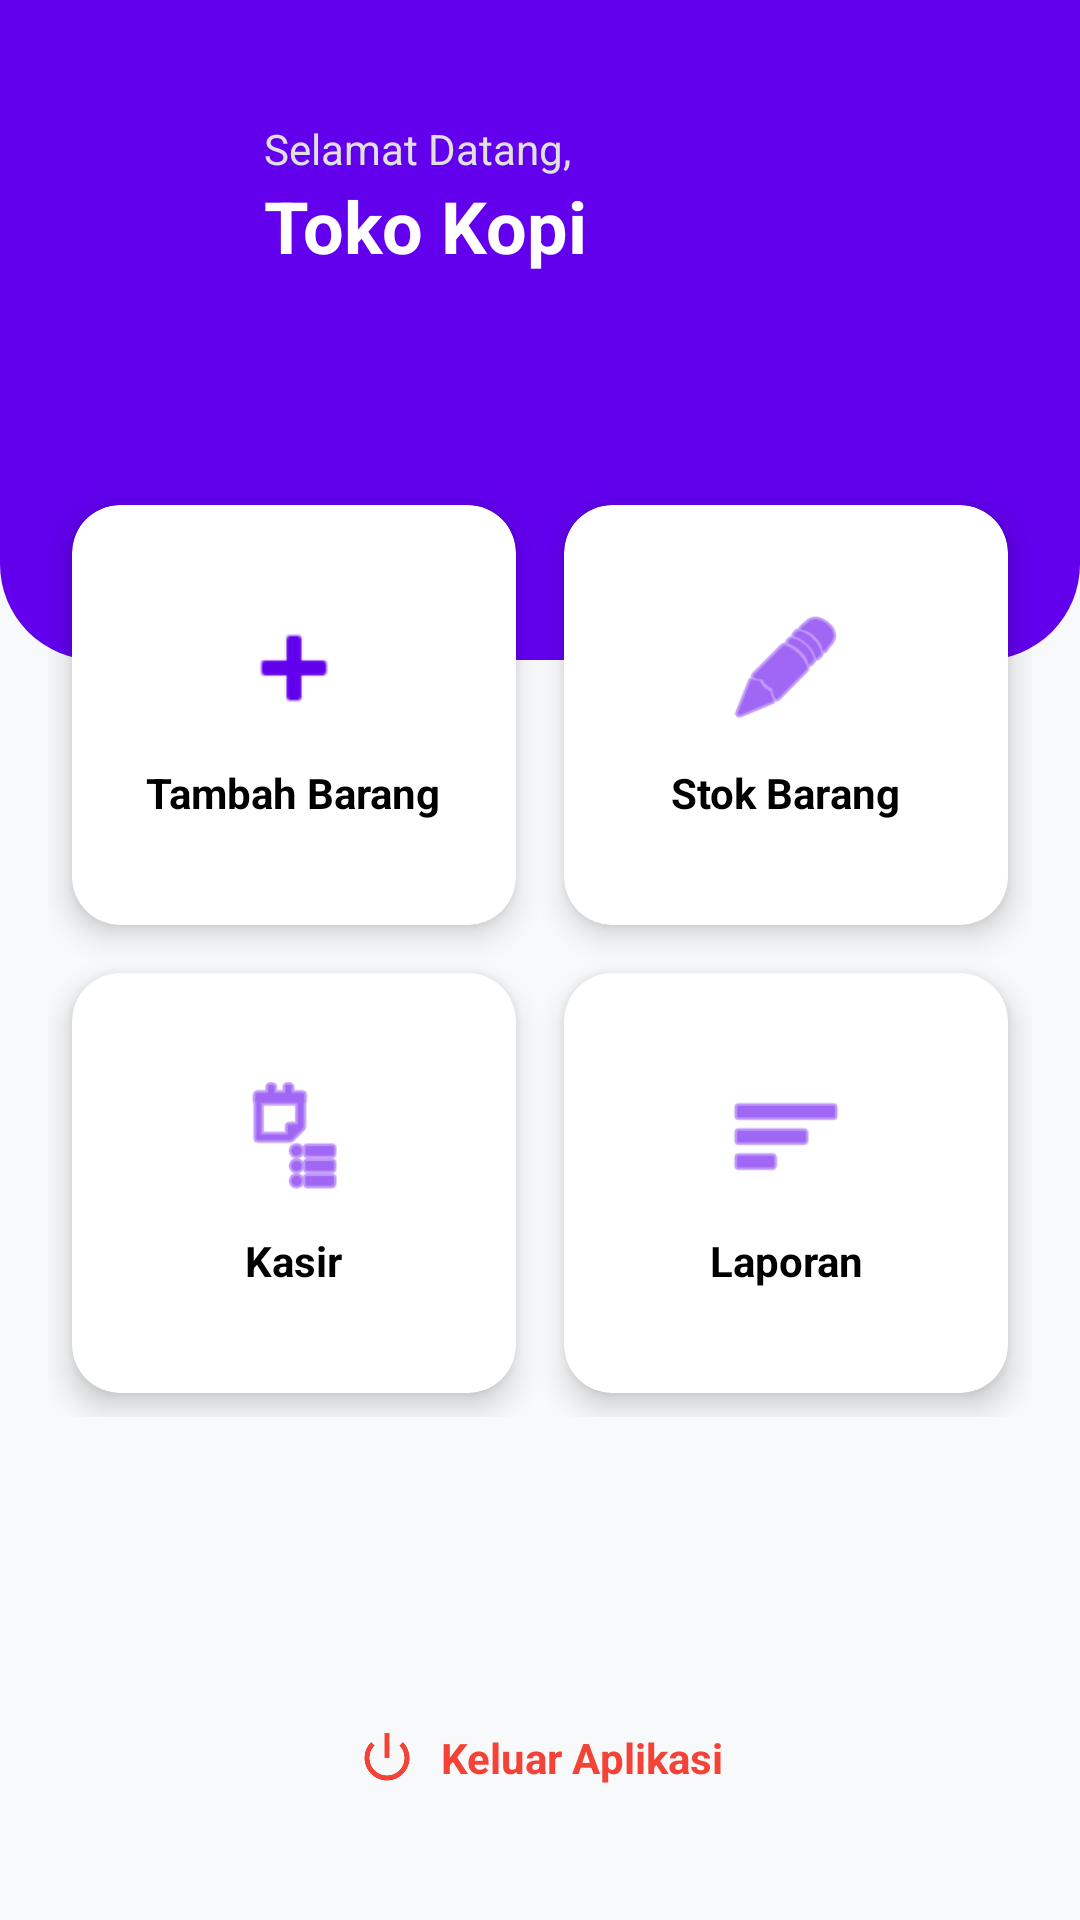

Where to tap for icons on this 1080px x 1920px app screen, as point (x, y):
add: point (294, 668)
agenda: point (294, 1135)
edit: point (785, 667)
lock power off: point (387, 1757)
sort by size: point (786, 1136)
